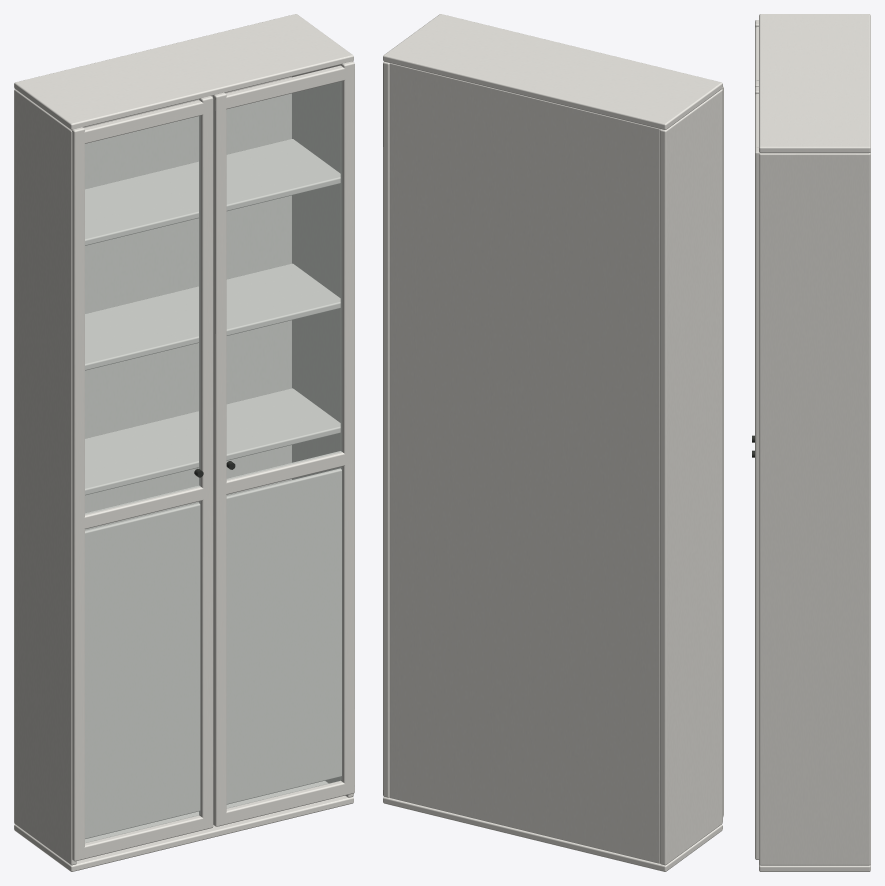
The model's file is billy-oxberg-mobile.glb.
3 views of the same model, side by side, from view 1: azimuth 30°, elevation 25°; view 2: azimuth 150°, elevation 25°; view 3: azimuth 270°, elevation 25° (orthographic). The views are drawn at different scales.
Parts seen in each view (by area): view 1: BILLY / OXBERG Bookcase with glass/panel doors; view 2: BILLY / OXBERG Bookcase with glass/panel doors; view 3: BILLY / OXBERG Bookcase with glass/panel doors.
Part boxes in pixels (x1=…): BILLY / OXBERG Bookcase with glass/panel doors: x1=14, y1=14, x2=354, y2=871; BILLY / OXBERG Bookcase with glass/panel doors: x1=383, y1=14, x2=723, y2=871; BILLY / OXBERG Bookcase with glass/panel doors: x1=752, y1=14, x2=870, y2=871.
Size of the model in its own units: 0.8 by 2.02 by 0.3.
3 materials, 2 textured.
